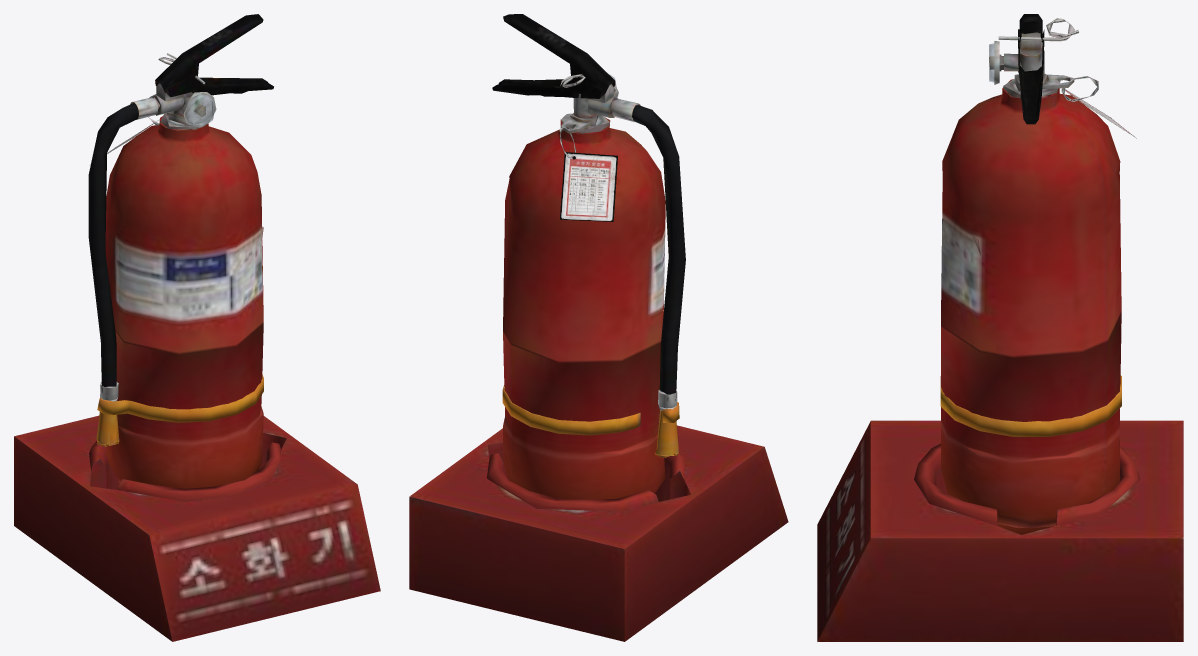
Rendered from fire_extinguisher_lod1.glb.
The picture shows the model from 3 angles, left to right: view 1: azimuth 30°, elevation 25°; view 2: azimuth 150°, elevation 25°; view 3: azimuth 270°, elevation 25°; orthographic projection. The views are drawn at different scales.
Bounding box in the file's own units: 0.279 × 0.6591 × 0.3674.
Materials: 3 (3 with a texture image).
